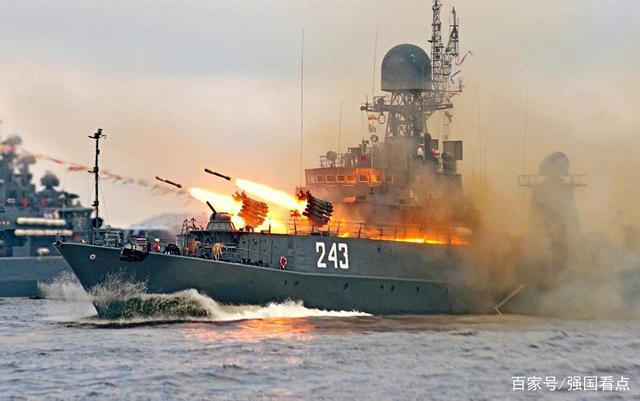warship: (54, 5, 543, 326)
